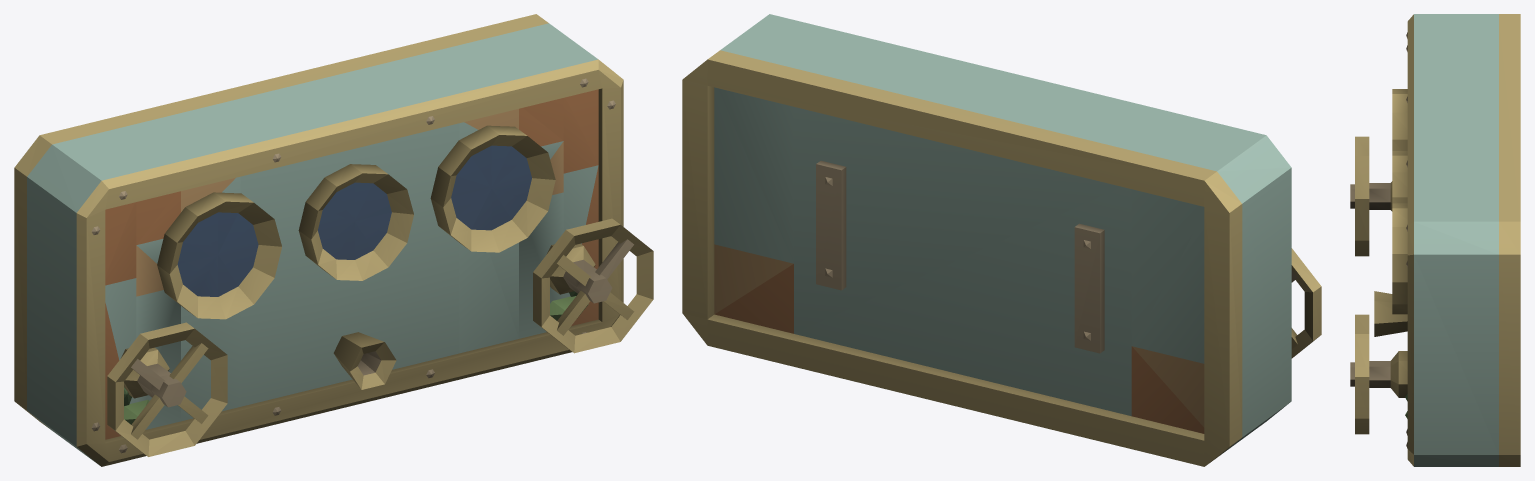
The model's file is panel.glb.
3 renders of one model, left to right at view 1: azimuth 30°, elevation 25°; view 2: azimuth 150°, elevation 25°; view 3: azimuth 270°, elevation 25°, orthographic. The views are drawn at different scales.
Parts seen in each view (by area): view 1: panel; view 2: panel; view 3: panel.
Boxes of the visible parts, bbox=[...] form: panel: bbox=[14, 14, 653, 466]; panel: bbox=[682, 14, 1321, 466]; panel: bbox=[1350, 14, 1520, 466].
Bounding box in the file's own units: 1.2 × 0.6 × 0.377.
